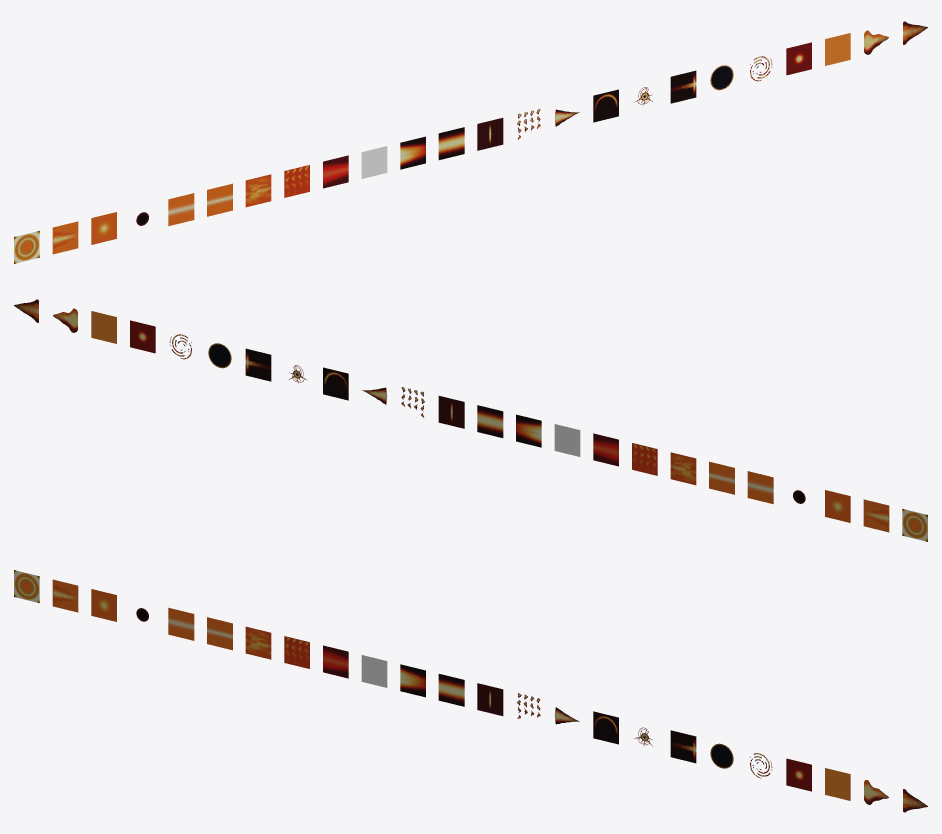
The model's file is StarburstVFX.fbx.
3 views of the same model, one above another, from view 1: azimuth 30°, elevation 25°; view 2: azimuth 150°, elevation 25°; view 3: azimuth 330°, elevation 25° (orthographic).
Visible parts, largest first — view 1: Tex_SlashStrip, Tex_Spark, Tex_EnergySpike, Tex_Twinkle, Tex_Dart, Tex_EnergyFlow, Tex_FlowStroke, Tex_Trail, Tex_Crescent, Tex_EnergyRing, Tex_RedSwirl, Tex_Ember (+4 smaller); view 2: Tex_SlashStrip, Tex_Spark, Tex_EnergySpike, Tex_Twinkle, Tex_Dart, Tex_EnergyFlow, Tex_FlowStroke, Tex_Trail, Tex_Crescent, Tex_EnergyRing, Tex_RedSwirl, Tex_Ember (+4 smaller); view 3: Tex_SlashStrip, Tex_Spark, Tex_EnergySpike, Tex_Twinkle, Tex_Dart, Tex_EnergyFlow, Tex_FlowStroke, Tex_Trail, Tex_Crescent, Tex_EnergyRing, Tex_RedSwirl, Tex_Ember (+4 smaller).
Part boxes in pixels (<box>): Tex_SlashStrip: <box>438,127,464,159</box>; Tex_Spark: <box>477,118,503,150</box>; Tex_EnergySpike: <box>52,221,78,254</box>; Tex_Twinkle: <box>361,146,387,178</box>; Tex_Dart: <box>670,70,696,103</box>; Tex_EnergyFlow: <box>245,174,271,207</box>; Tex_FlowStroke: <box>168,193,194,226</box>; Tex_Trail: <box>400,136,425,169</box>; Tex_Crescent: <box>593,89,618,122</box>; Tex_EnergyRing: <box>14,231,39,263</box>; Tex_RedSwirl: <box>323,155,348,188</box>; Tex_Ember: <box>786,42,811,75</box>; Tex_SlashStrip: <box>477,405,503,437</box>; Tex_Spark: <box>438,396,464,428</box>; Tex_EnergySpike: <box>863,499,889,532</box>; Tex_Twinkle: <box>554,424,580,456</box>; Tex_Dart: <box>245,348,271,381</box>; Tex_EnergyFlow: <box>670,452,696,485</box>; Tex_FlowStroke: <box>747,471,773,504</box>; Tex_Trail: <box>516,414,541,447</box>; Tex_Crescent: <box>323,367,348,400</box>; Tex_EnergyRing: <box>902,509,927,541</box>; Tex_RedSwirl: <box>593,433,618,466</box>; Tex_Ember: <box>130,320,155,353</box>; Tex_SlashStrip: <box>438,674,464,706</box>; Tex_Spark: <box>477,683,503,715</box>; Tex_EnergySpike: <box>52,579,78,612</box>; Tex_Twinkle: <box>361,655,387,687</box>; Tex_Dart: <box>670,730,696,763</box>; Tex_EnergyFlow: <box>245,626,271,659</box>; Tex_FlowStroke: <box>168,607,194,640</box>; Tex_Trail: <box>400,664,425,697</box>; Tex_Crescent: <box>593,711,618,744</box>; Tex_EnergyRing: <box>14,570,39,602</box>; Tex_RedSwirl: <box>323,645,348,678</box>; Tex_Ember: <box>786,758,811,791</box>.
Size of the model in its own units: 7.1 by 0.2 by 0.
24 materials, 24 textured.
